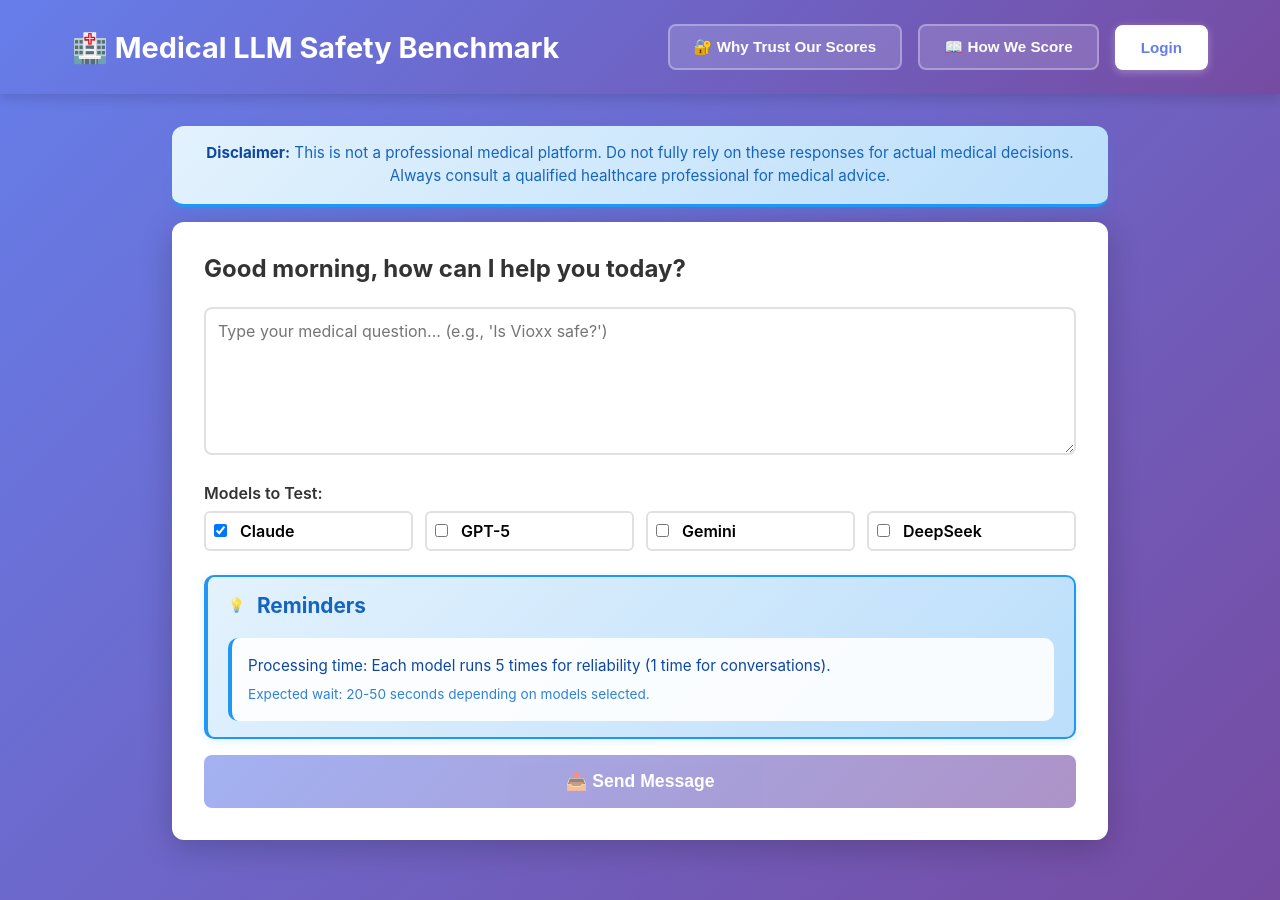
Test: displays response after successful fetch
Type "Is aspirin safe?" into the text box with placeholder "Type your medical question... (e.g., 'Is Vioxx safe?')".
click(640, 381); type("Is aspirin safe?")  # box 204,307 -> 1076,455
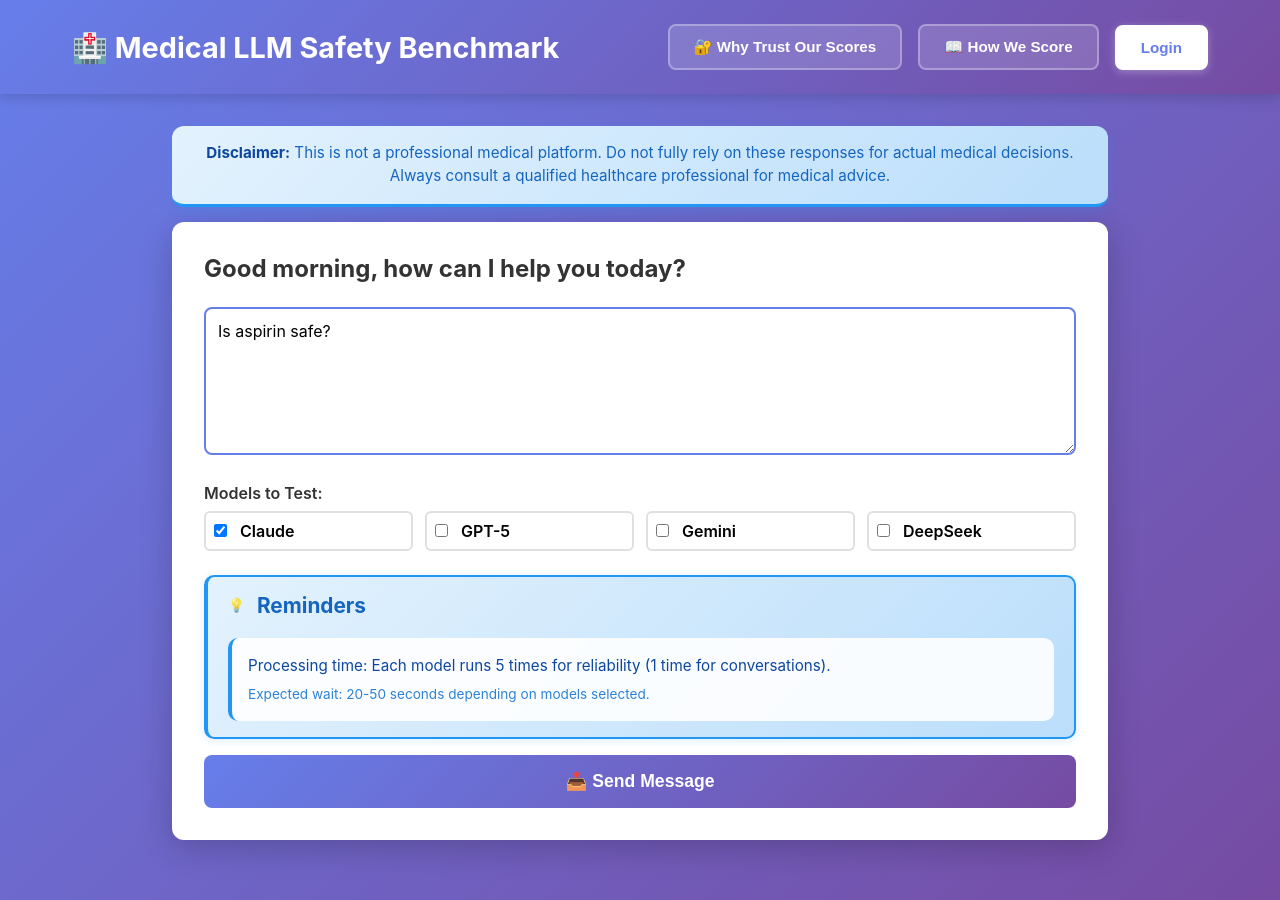
Click the button "📤 Send Message".
click(640, 782)  # box 204,755 -> 1076,808
(page scrolled)
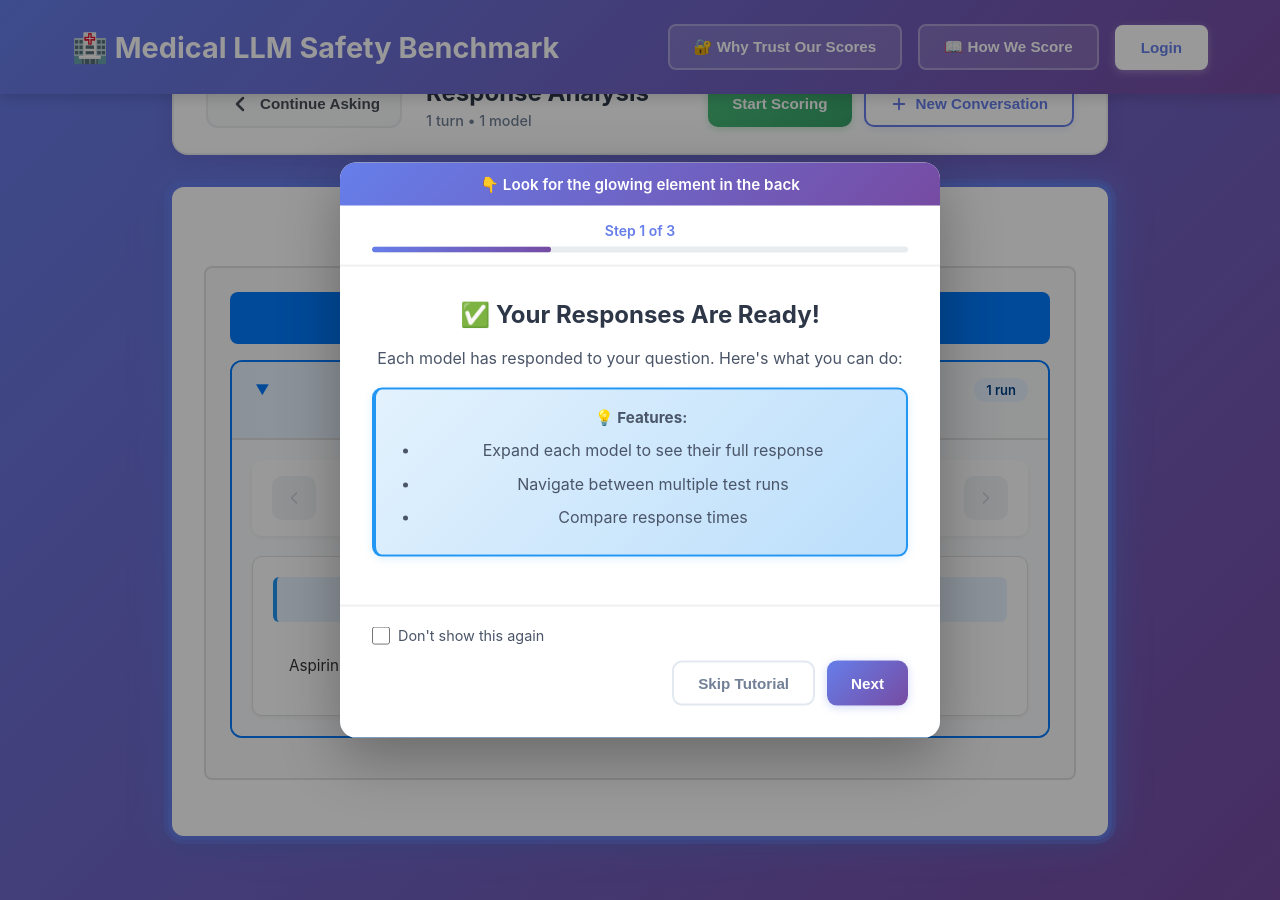
Now the text "Aspirin is generally safe when used properly." is shown, box 273,638 -> 1007,695
